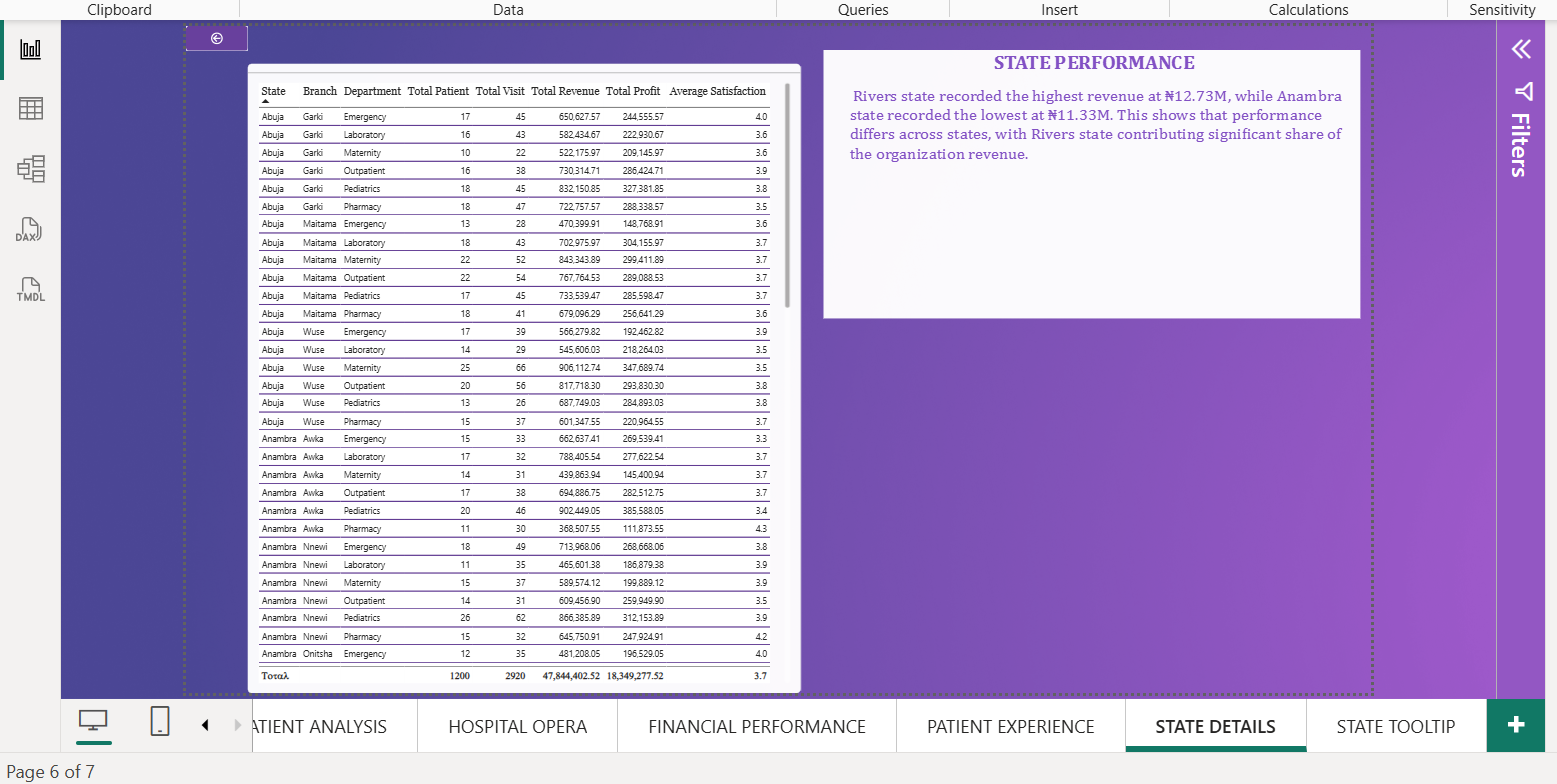

The dashboard page shown, as its layout file describes it:
{"tool":"powerbi","page":{"name":"STATE DETAILS ","canvas":[1920,1080],"ordinal":5},"visuals":[{"type":"tableEx","fields":{"Values":["Patient_Visits.State","Patient_Visits.Branch","Patient_Visits.Department","Patient_Visits.Total Patient","Date_Table.Total Visit","Date_Table.Total Revenue","Date_Table.Total Profit","Date_Table.Average Satisfaction"]},"box":[99.6,60.7,896.2,1020.1],"z":0},{"type":"actionButton","box":[0,0,100,40],"z":1000},{"type":"textbox","box":[1032.3,38.9,869.5,434.8],"z":2000}]}

Visuals, with their boxes on the page's 1920x1080 design canvas (x1, y1, x2, y2). These are canvas units, not pixel positions in the 1557x784 screenshot, which may show the page scaled, cropped or inside an application window:
tableEx - Patient_Visits.State x Patient_Visits.Branch: 100:61:996:1081
actionButton: 0:0:100:40
textbox: 1032:39:1902:474
